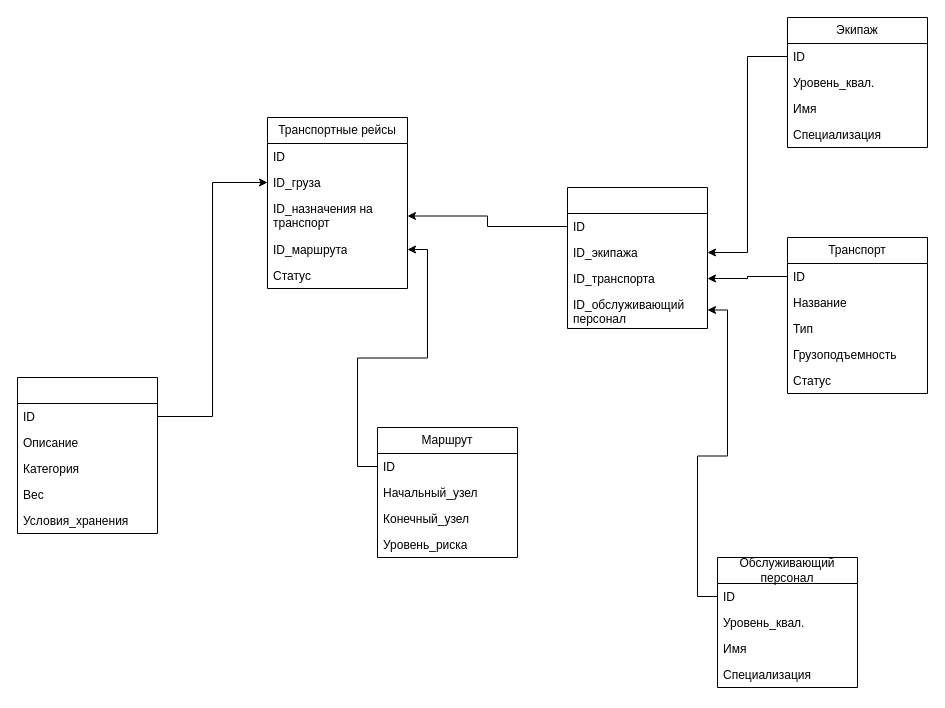
This 945x708 diagram has some shape labels left out. Here are the shapes that lost their labels. From the top down, the box of each, then its label:
(566, 186, 708, 328): Назначения экипажа на транспорт
(16, 376, 158, 534): Грузы
